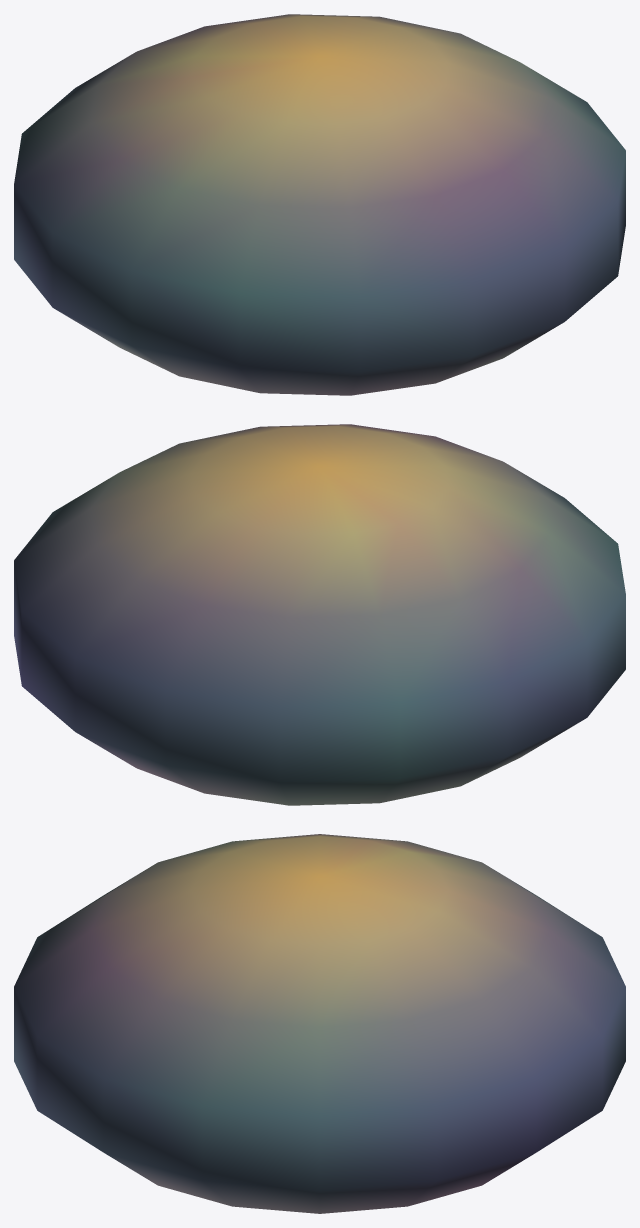
Rendered from space-galaxies-elliptical-galaxy_v2.glb.
3 views of the same model, one above another, from view 1: azimuth 30°, elevation 25°; view 2: azimuth 150°, elevation 25°; view 3: azimuth 270°, elevation 25° (orthographic).
Visible parts, largest first — view 1: Elliptical Galaxy_v2; view 2: Elliptical Galaxy_v2; view 3: Elliptical Galaxy_v2.
Boxes of the visible parts, left/top/right/bottom form: Elliptical Galaxy_v2: left=14, top=14, right=625, bottom=395; Elliptical Galaxy_v2: left=14, top=424, right=625, bottom=805; Elliptical Galaxy_v2: left=14, top=834, right=625, bottom=1213.
Bounding box in the file's own units: 0.5 × 0.2686 × 0.5.
